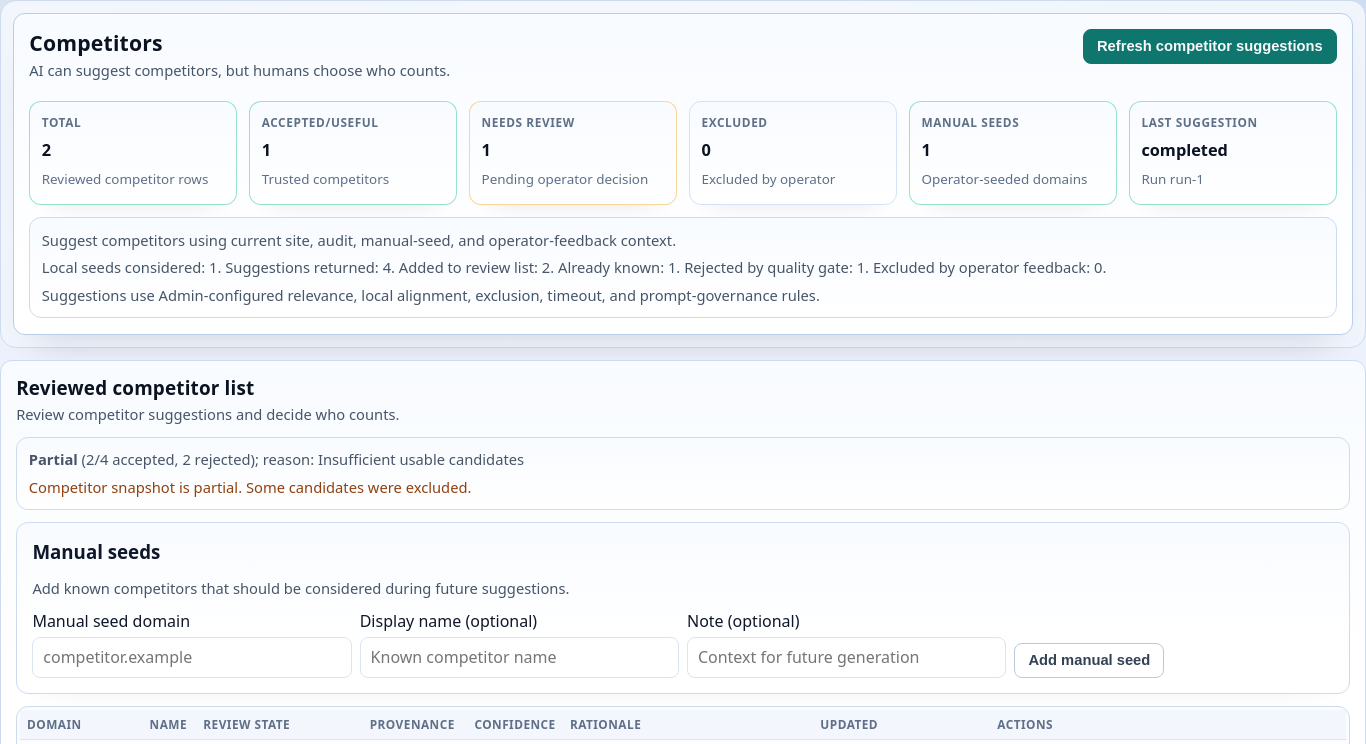
Test: competitors page list-first workflow › starts competitor suggestions, shows lifecycle feedback, and refetches list data
The width and height of the screenshot is (1366, 744).
Expected: the heading "Reviewed competitor list" is shown, [16,375,254,401]
What coordinates should you click on to do the following:
click the button with test id "competitors-generate-set-button"
I would click on:
 (1210, 46)
Its box is [1083,29,1337,64].
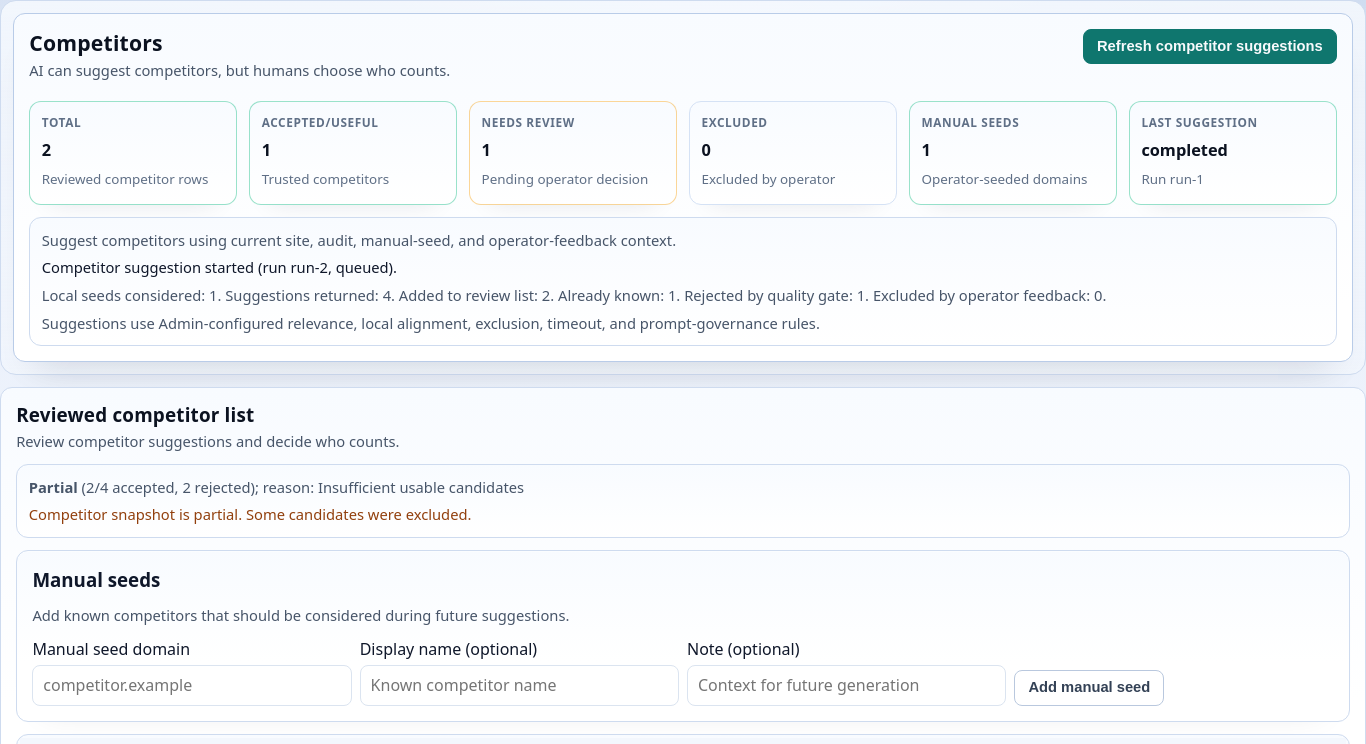
Expected: the text with test id "competitors-generation-success" reads "Competitor suggestion started (run run-2, queued).", [42,257,397,277]
